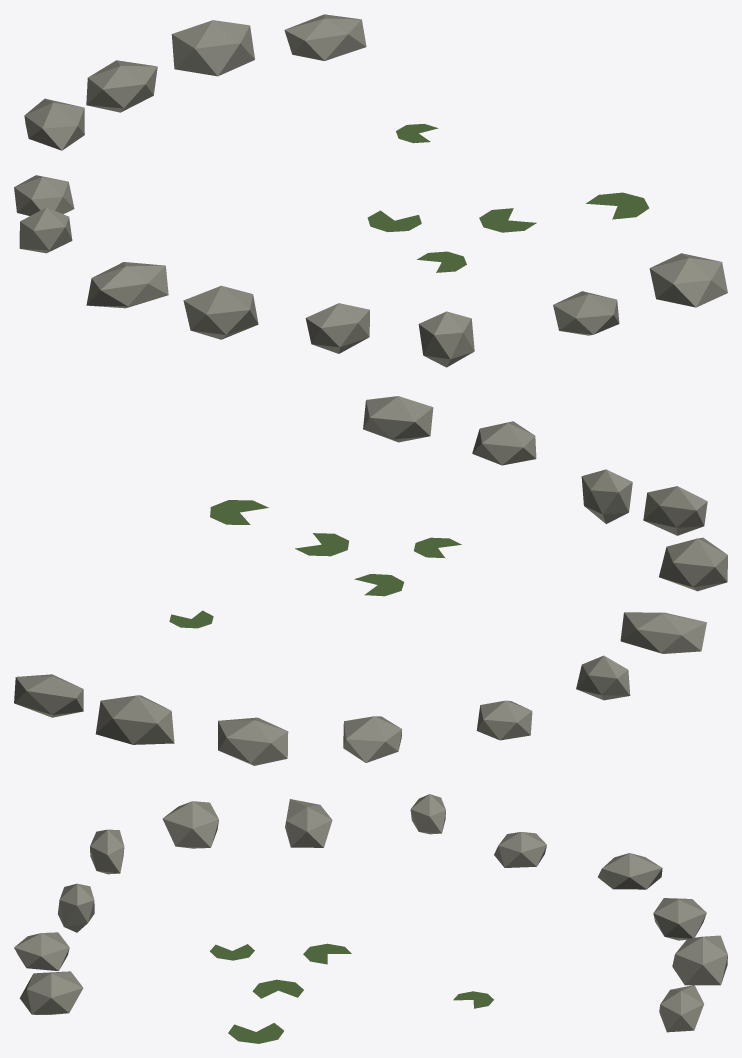
Rendered from river_spring_center.glb.
The picture shows the model from 3 angles, top to bottom: view 1: azimuth 30°, elevation 25°; view 2: azimuth 150°, elevation 25°; view 3: azimuth 270°, elevation 25°; orthographic projection. The views are drawn at different scales.
Parts seen in each view (by area): view 1: river_spring_center_lod0; view 2: river_spring_center_lod0; view 3: river_spring_center_lod0.
Boxes of the visible parts, <box> form: river_spring_center_lod0: <box>14,14,727,367</box>; river_spring_center_lod0: <box>14,396,727,765</box>; river_spring_center_lod0: <box>14,794,727,1043</box>.
Size of what is drawn, in the model's own units: 9.09 by 1.22 by 12.1.
